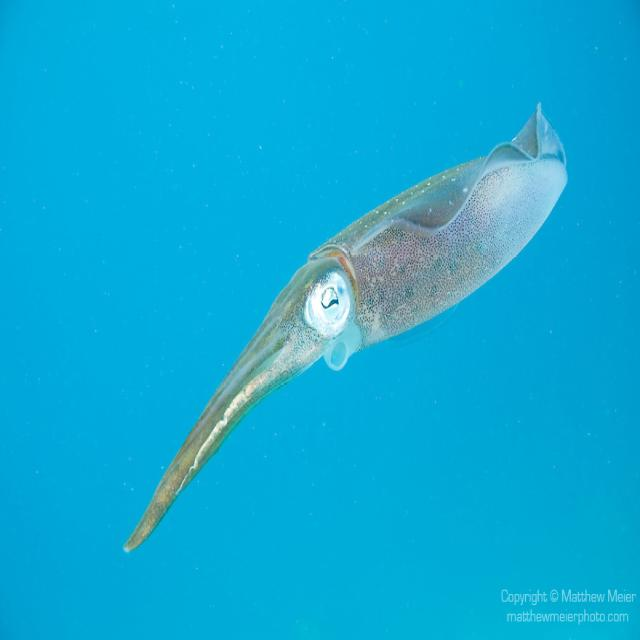SQUID: (114, 85, 579, 564)
